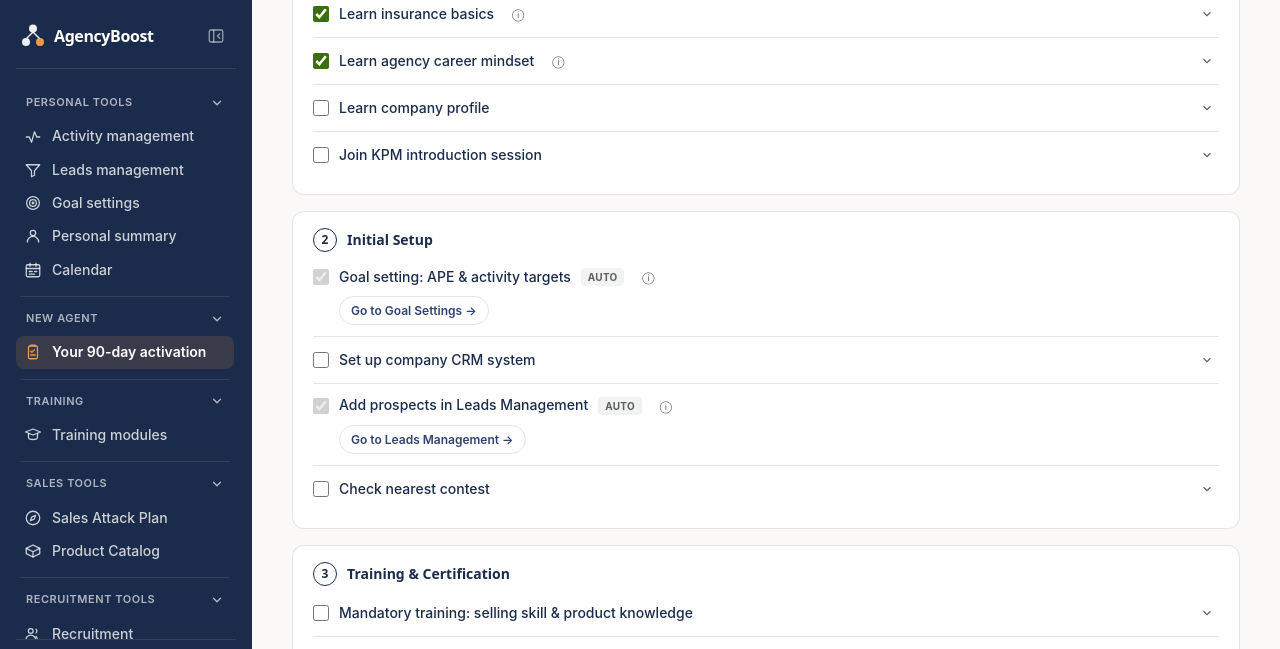
Test: /activation, the hire’s own 90-Day Activation (P13-T4) › P13-T4 AC-3 the percentage waits for the answer: the screen works none of it out
The image size is (1280, 649).
(page scrolled)
Click the checkbox labelled "Set up company CRM system": (321, 360) top-left (313, 352), bottom-right (329, 368)
(page scrolled)
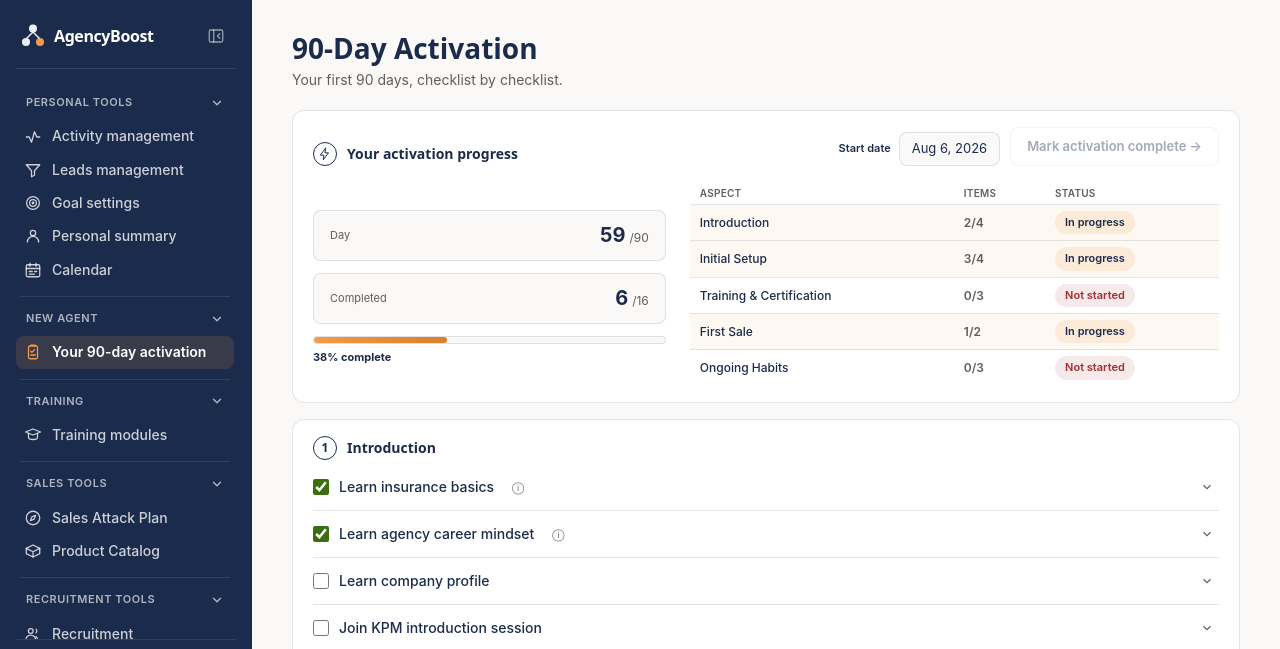
Expected: the text "38% complete" is shown, top-left (313, 350), bottom-right (391, 364)
